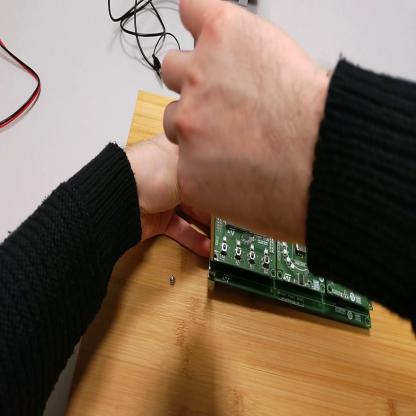hand: (163, 4, 317, 248), (130, 139, 213, 262)
low voltage board: (208, 218, 374, 331)
screwdriver-: (210, 213, 216, 273)
working area: (65, 92, 416, 416)
